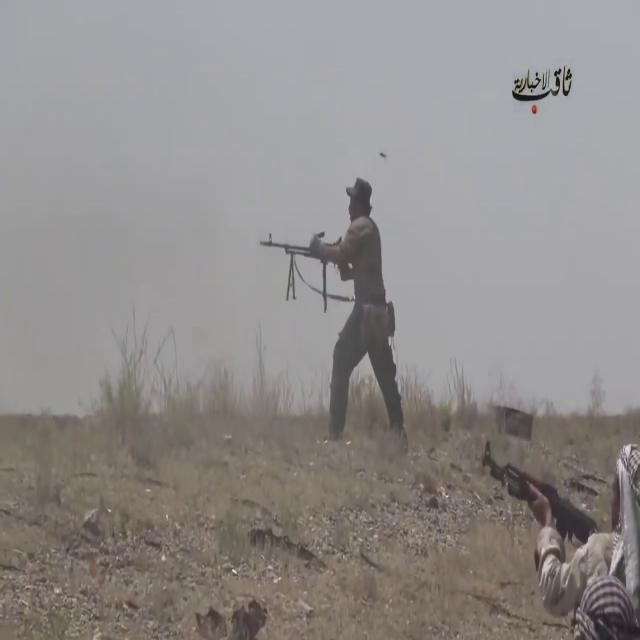long weapon: (250, 222, 352, 320)
